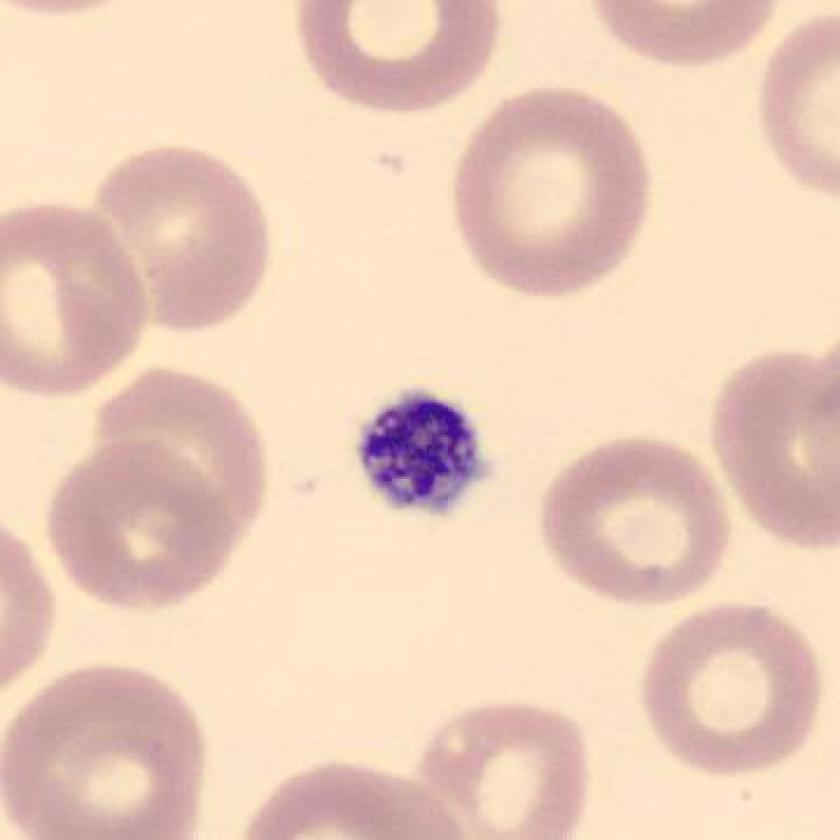platelets: (344, 373, 503, 531)
